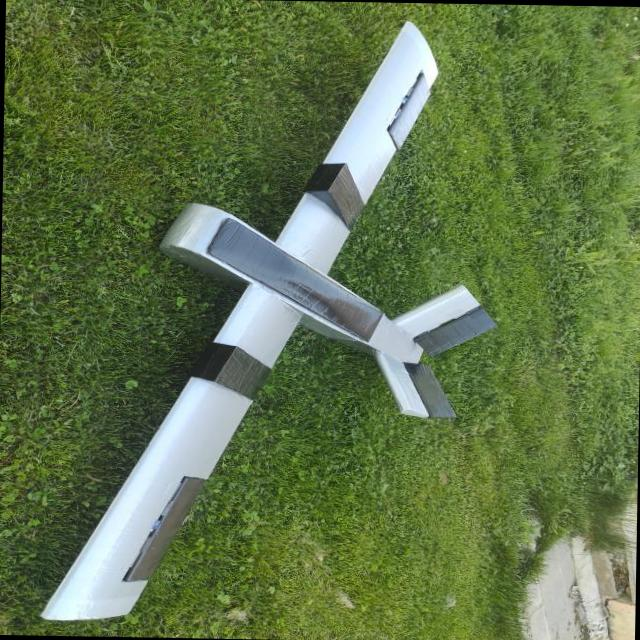UAV: (17, 24, 497, 640)
